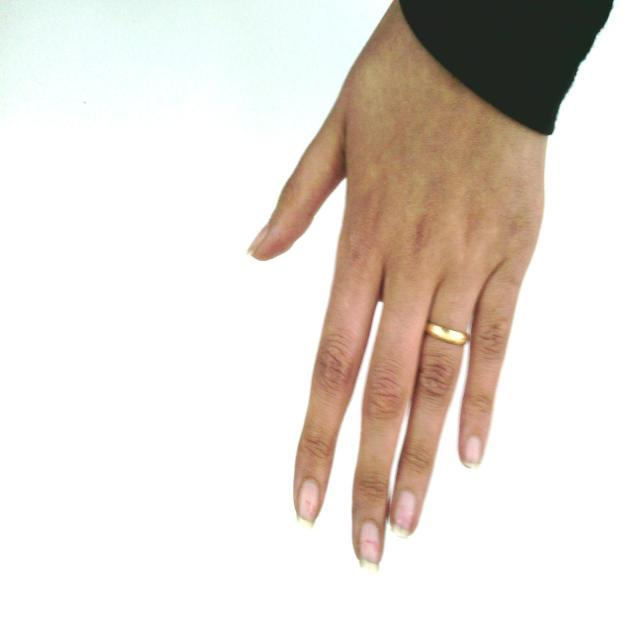Fingernail: (392, 491, 416, 537), (360, 520, 380, 571), (299, 479, 320, 524), (250, 224, 270, 252), (464, 436, 482, 467)
